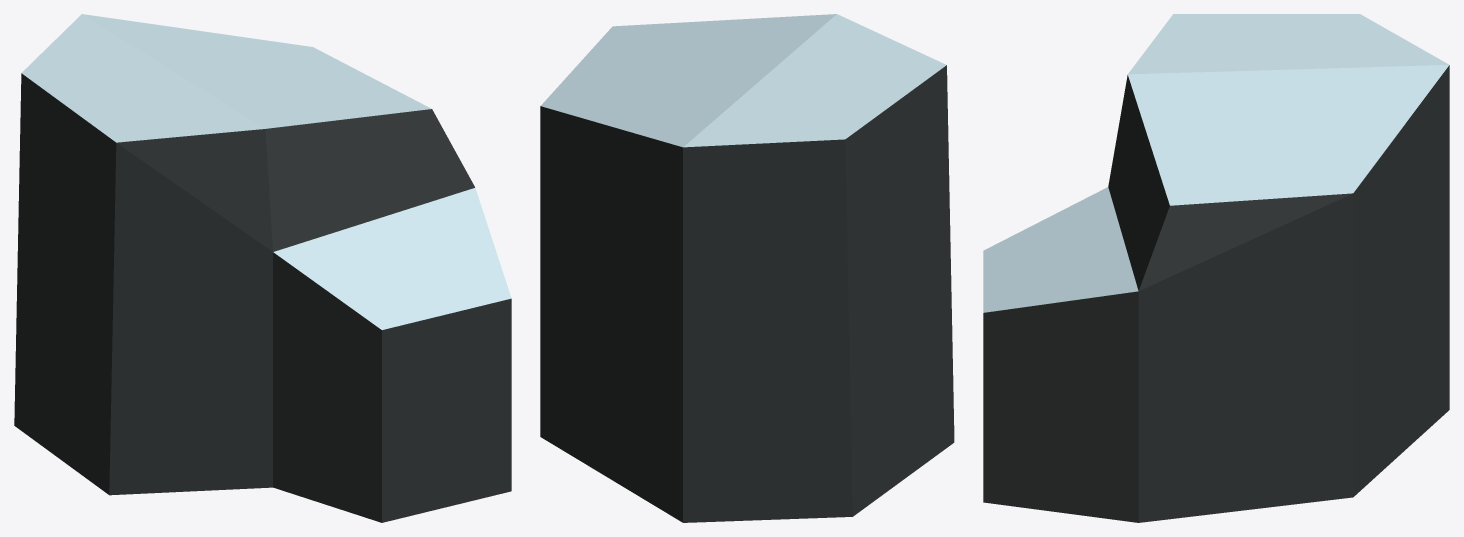
File: SM_Env_Generic_Cliffs_03_Snow.fbx
3 views of the same model, side by side, from view 1: azimuth 30°, elevation 25°; view 2: azimuth 150°, elevation 25°; view 3: azimuth 270°, elevation 25° (orthographic). The views are drawn at different scales.
Visible parts, largest first — view 1: SM_Env_Generic_Cliffs_03_Snow; view 2: SM_Env_Generic_Cliffs_03_Snow; view 3: SM_Env_Generic_Cliffs_03_Snow.
Boxes of the visible parts, x1,y1,x2,y2 form: SM_Env_Generic_Cliffs_03_Snow: (14,14,511,522); SM_Env_Generic_Cliffs_03_Snow: (540,14,954,522); SM_Env_Generic_Cliffs_03_Snow: (983,14,1449,522).
Size of the model in its own units: 59.68 by 57.43 by 70.31.
Materials: 1 (1 with a texture image).
